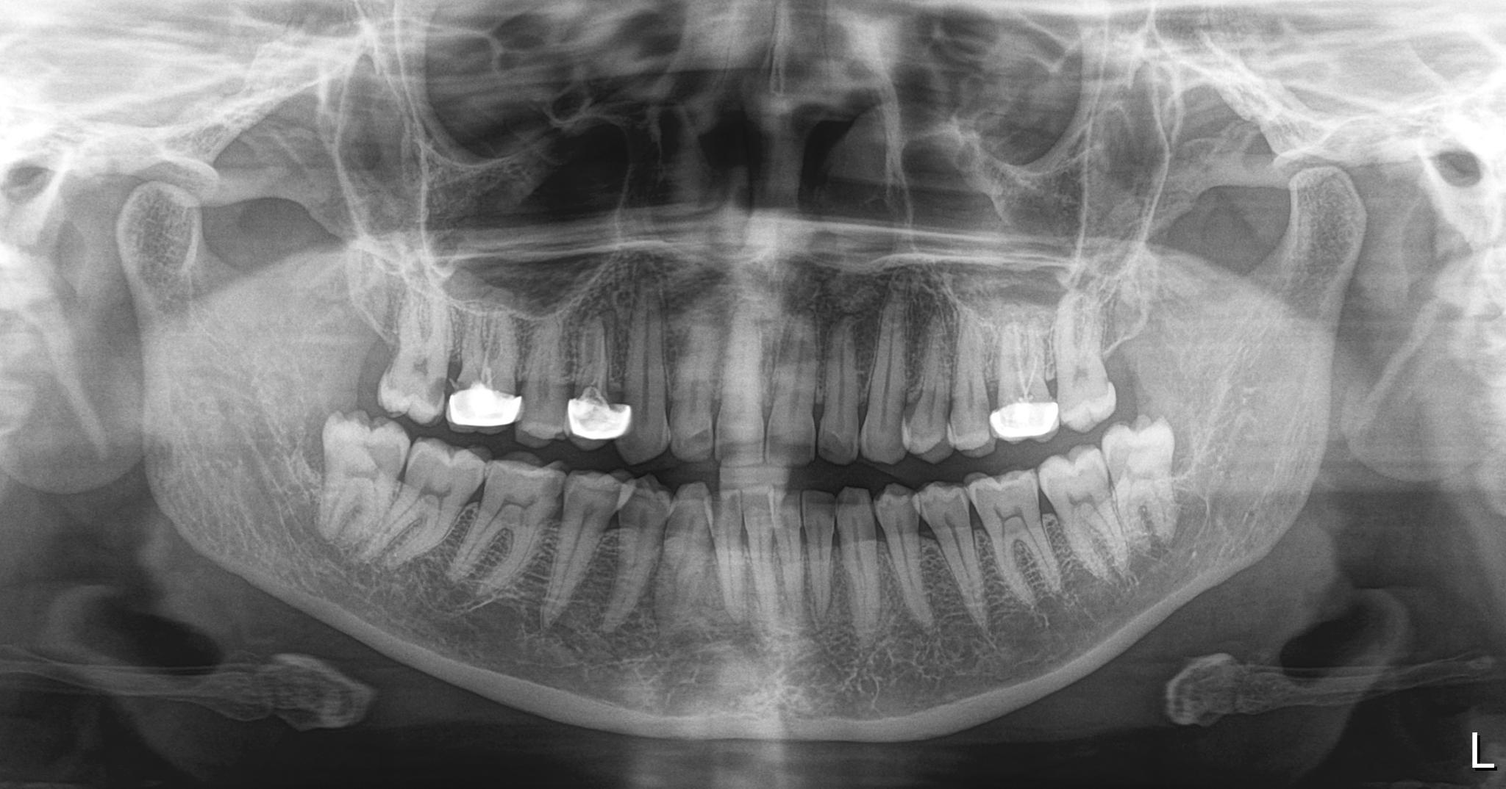Endodontically Treated Tooth: (463, 316, 523, 433), (570, 327, 629, 441), (1006, 327, 1054, 435)
Impacted Third Molar: (1099, 430, 1177, 556)
Missing Tooth: (1064, 261, 1168, 399), (342, 257, 390, 412)
